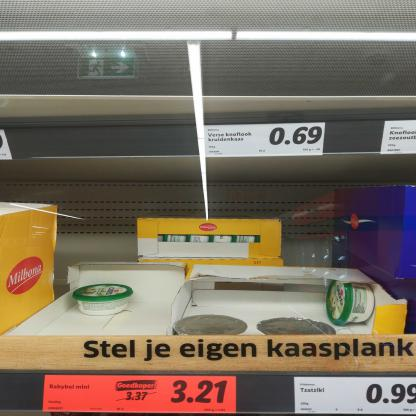prtg: (43, 376, 237, 415), (295, 378, 416, 415), (205, 123, 326, 158), (381, 121, 416, 156)
